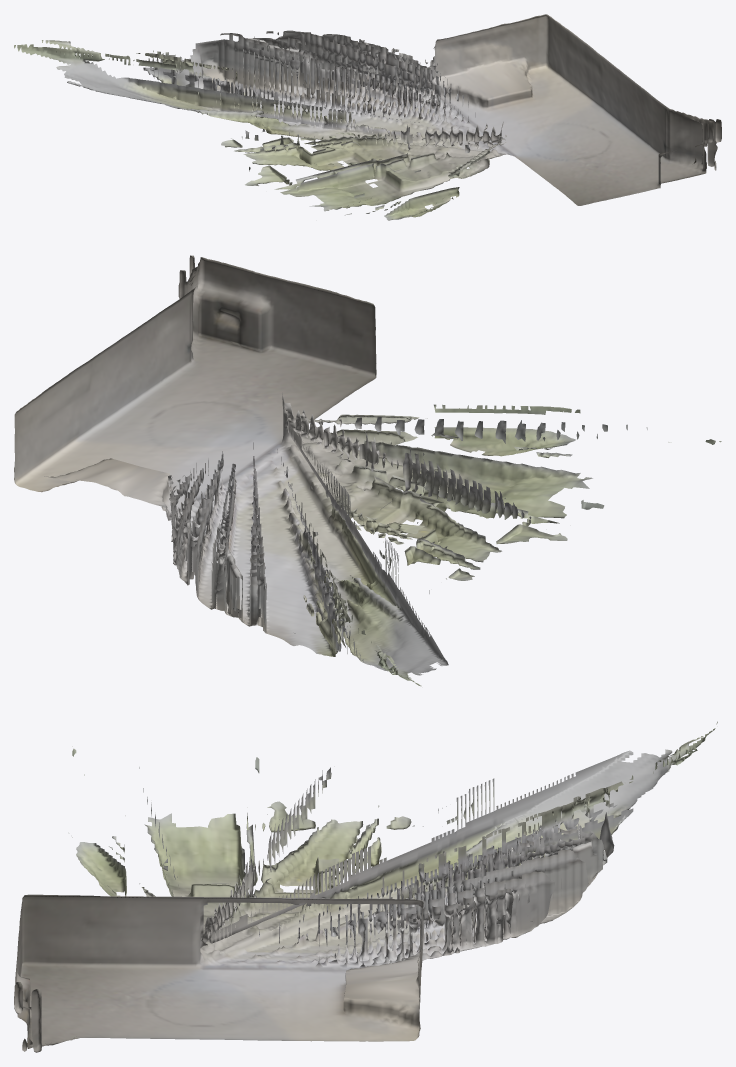
The model's file is garage-interior.glb.
The picture shows the model from 3 angles, top to bottom: view 1: azimuth 30°, elevation 25°; view 2: azimuth 150°, elevation 25°; view 3: azimuth 270°, elevation 25°; orthographic projection. The views are drawn at different scales.
Visible parts, largest first — view 1: world; view 2: world; view 3: world.
Boxes of the visible parts, <box> form: world: <box>14,14,721,220</box>; world: <box>14,255,721,686</box>; world: <box>14,721,717,1052</box>.
Size of the model in its own units: 23.05 by 3.11 by 24.13.
